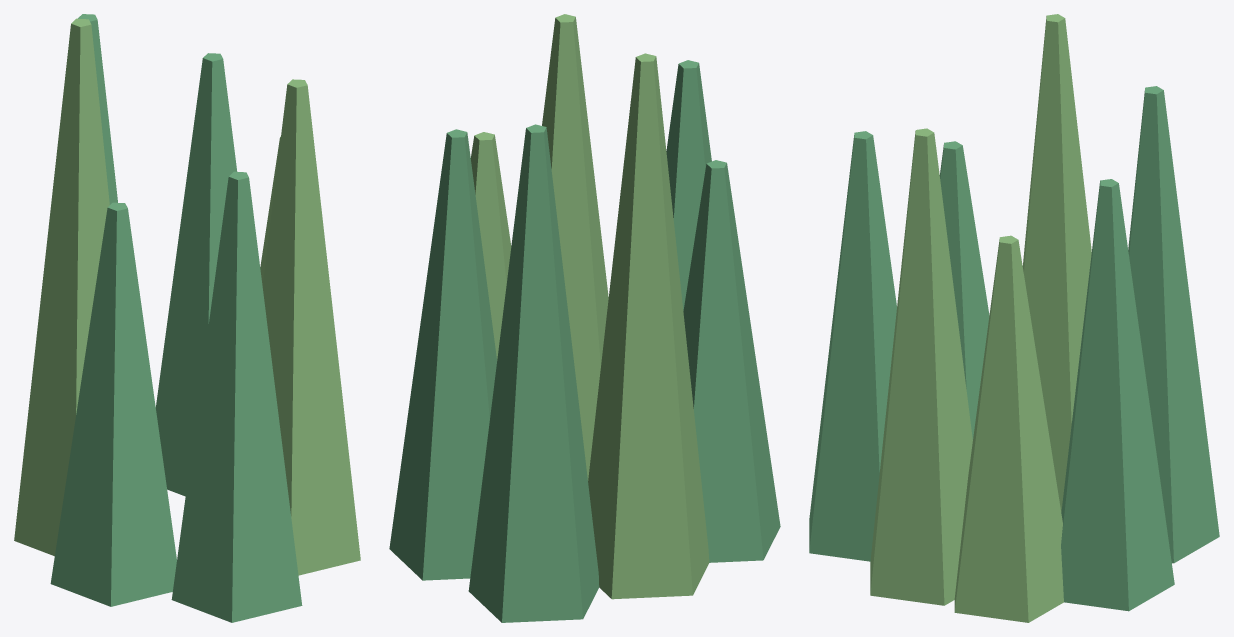
File: aloe-vera-lod1.glb
3 renders of one model, left to right at view 1: azimuth 30°, elevation 25°; view 2: azimuth 150°, elevation 25°; view 3: azimuth 270°, elevation 25°, orthographic. The views are drawn at different scales.
Visible parts, largest first — view 1: Aloe_Leaf_5.001, Aloe_Leaf_4.001, Aloe_Leaf_6.001, Aloe_Leaf_3.001, Aloe_Leaf_1.001, Aloe_Leaf_2.001, Aloe_Leaf_0.001; view 2: Aloe_Leaf_3.001, Aloe_Leaf_2.001, Aloe_Leaf_1.001, Aloe_Leaf_4.001, Aloe_Leaf_6.001, Aloe_Leaf_5.001, Aloe_Leaf_0.001; view 3: Aloe_Leaf_6.001, Aloe_Leaf_1.001, Aloe_Leaf_0.001, Aloe_Leaf_5.001, Aloe_Leaf_2.001, Aloe_Leaf_3.001, Aloe_Leaf_4.001.
Boxes of the visible parts, box(x1,y1,x2,y2) form: Aloe_Leaf_5.001: box(171, 171, 302, 622); Aloe_Leaf_4.001: box(50, 202, 176, 606); Aloe_Leaf_6.001: box(262, 79, 360, 575); Aloe_Leaf_3.001: box(14, 18, 109, 555); Aloe_Leaf_1.001: box(155, 53, 237, 496); Aloe_Leaf_2.001: box(78, 14, 117, 204); Aloe_Leaf_0.001: box(260, 136, 280, 285); Aloe_Leaf_3.001: box(588, 53, 709, 599); Aloe_Leaf_2.001: box(468, 124, 599, 622); Aloe_Leaf_1.001: box(389, 129, 496, 580); Aloe_Leaf_4.001: box(683, 160, 780, 562); Aloe_Leaf_6.001: box(542, 14, 608, 480); Aloe_Leaf_5.001: box(666, 60, 711, 310); Aloe_Leaf_0.001: box(470, 132, 511, 360); Aloe_Leaf_6.001: box(870, 128, 972, 605); Aloe_Leaf_1.001: box(1061, 179, 1174, 611); Aloe_Leaf_0.001: box(954, 235, 1063, 622); Aloe_Leaf_5.001: box(809, 131, 896, 561); Aloe_Leaf_2.001: box(1128, 86, 1219, 563); Aloe_Leaf_3.001: box(1022, 14, 1091, 511); Aloe_Leaf_4.001: box(939, 141, 989, 439).
Size of the model in its own units: 0.8436 by 1.31 by 0.9914.
